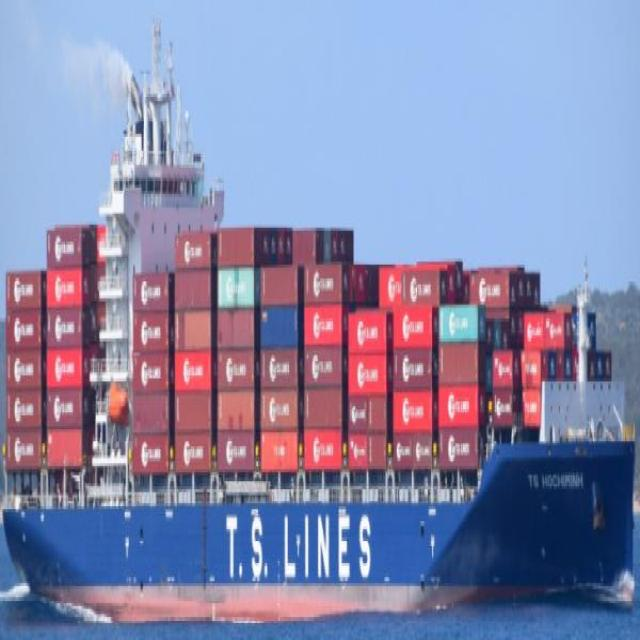Container Ship: (2, 17, 636, 622)
